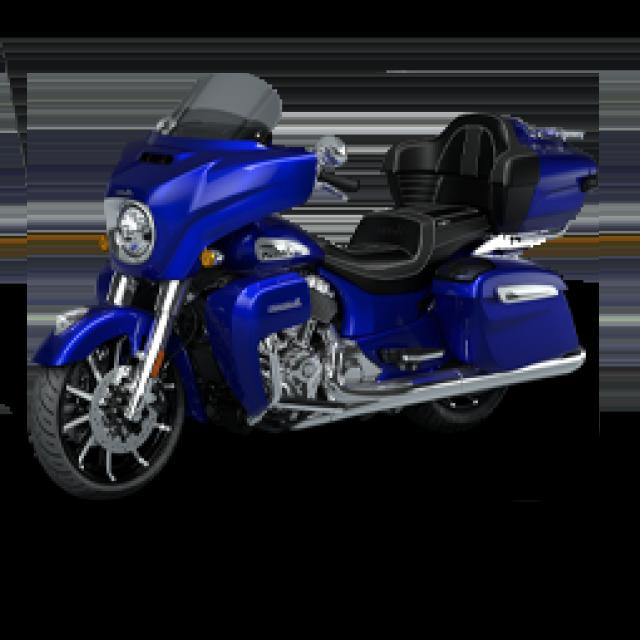motorcycle: (27, 73, 599, 500)
